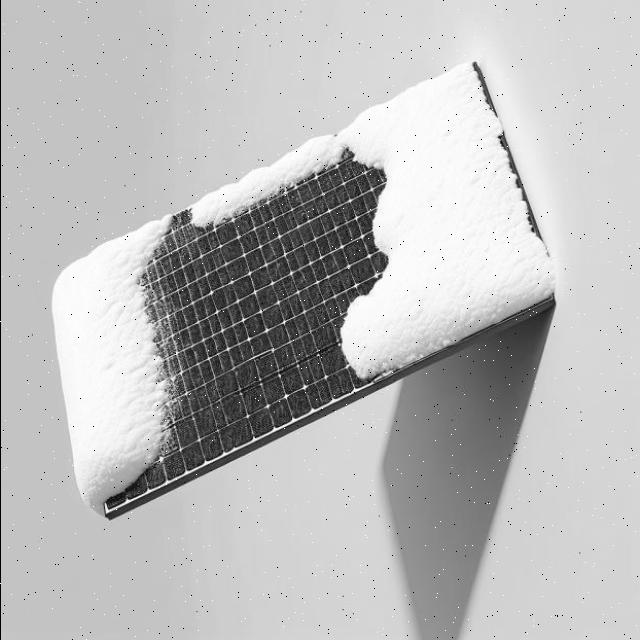Anomaly Solar Panel: (0, 63, 584, 525)
Snow: (0, 61, 579, 522)
